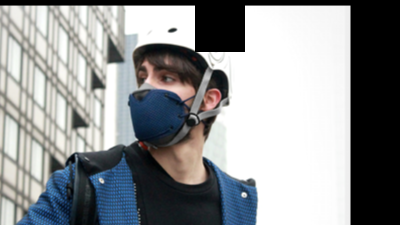with_mask: (128, 63, 197, 147)
